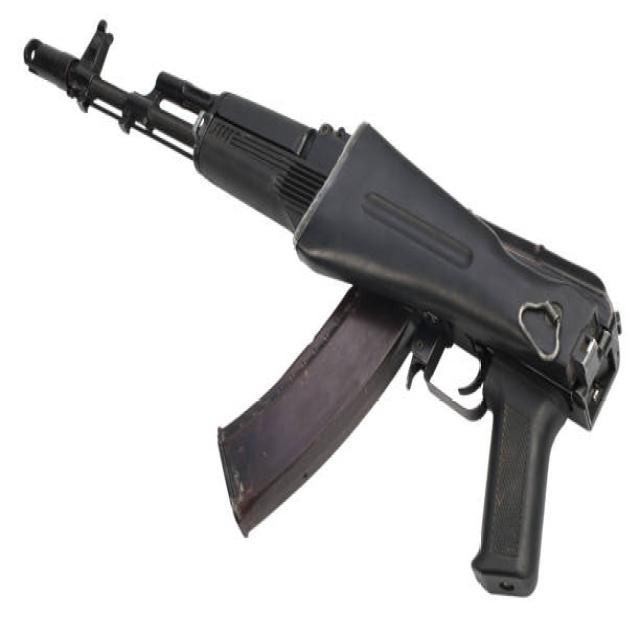rifle: (23, 18, 627, 606)
